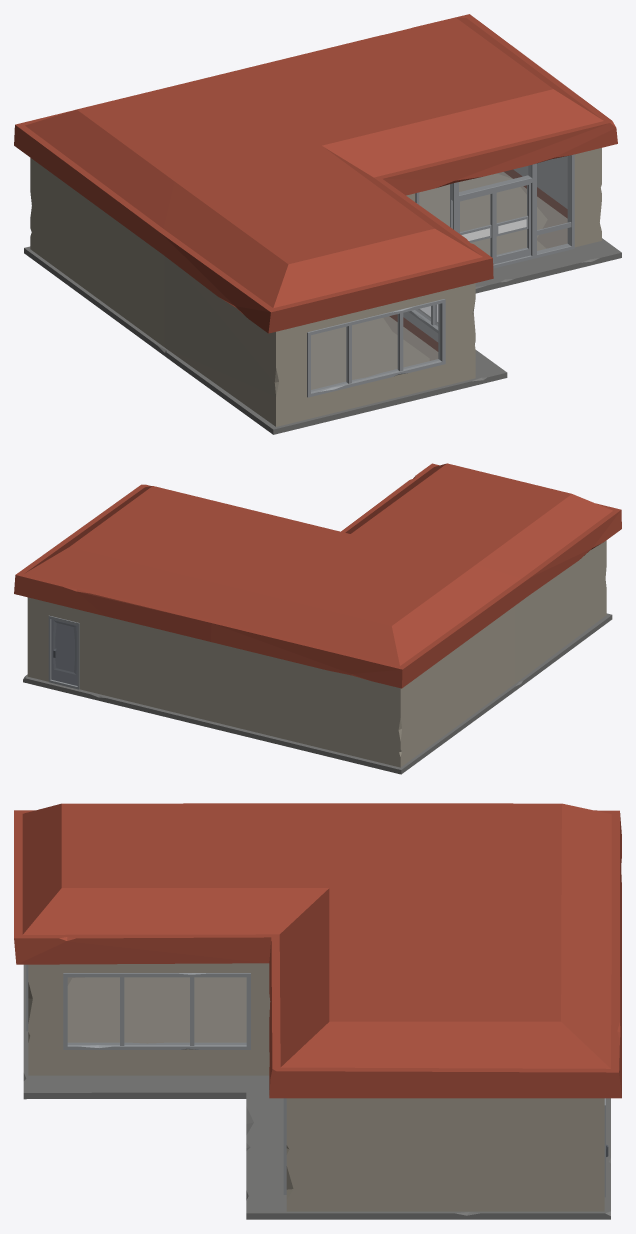
File: SM_Bld_Shop_03.fbx
3 views of the same model, one above another, from view 1: azimuth 30°, elevation 25°; view 2: azimuth 150°, elevation 25°; view 3: azimuth 270°, elevation 25° (orthographic). The views are drawn at different scales.
Parts seen in each view (by area): view 1: SM_Bld_Shop_03, SM_Bld_Shop_03_Door_R, SM_Bld_Shop_03_Door_L; view 2: SM_Bld_Shop_03, SM_Bld_Shop_03_Door_Rear; view 3: SM_Bld_Shop_03.
Boxes of the visible parts, box(x1,y1,x2,y2) form: SM_Bld_Shop_03: box(14, 14, 621, 434); SM_Bld_Shop_03_Door_R: box(494, 183, 530, 264); SM_Bld_Shop_03_Door_L: box(459, 192, 494, 264); SM_Bld_Shop_03: box(14, 463, 621, 774); SM_Bld_Shop_03_Door_Rear: box(51, 619, 77, 685); SM_Bld_Shop_03: box(14, 803, 621, 1219).
Bounding box in the file's own units: 1462 × 463 × 1427.
